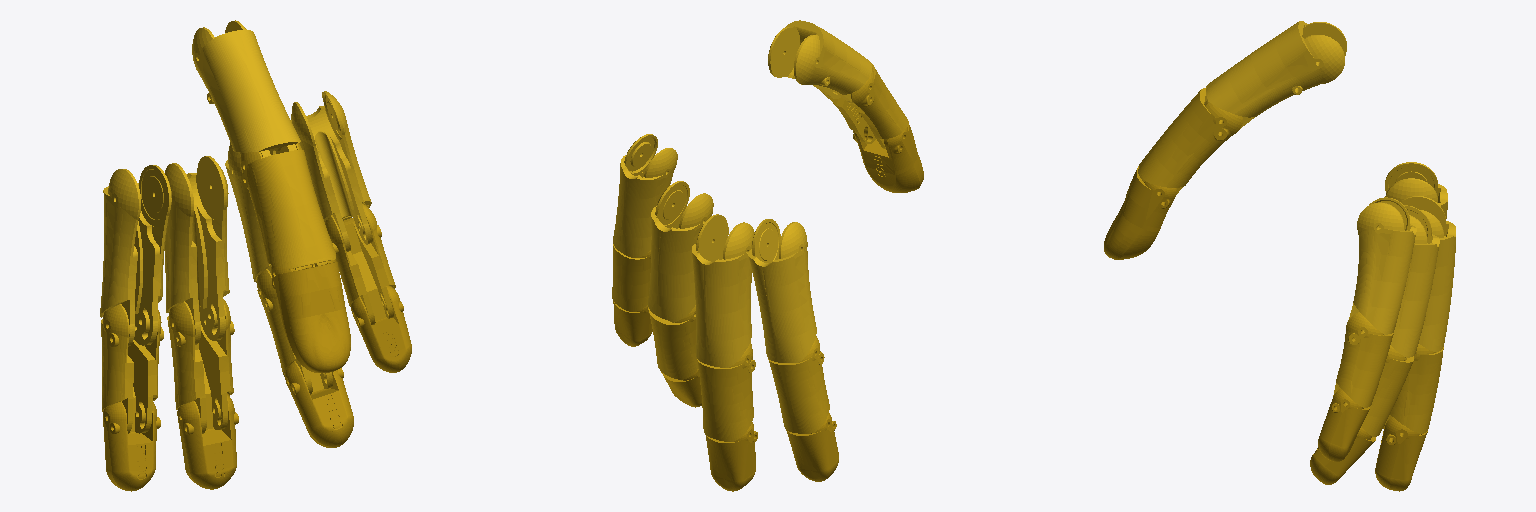
The robot description file, URDF, robot "nanohand":
<?xml version="1.0"?>
<robot name="nanohand">

  <!-- NanoHand 10-DOF URDF with Mimic Joints -->
  <!-- 3 curl joints per finger: MCP (controlled) + PIP (mimic) + DIP (mimic) -->
  <!-- UPDATE mimic multipliers after physical measurement with protractor! -->

  <!-- ===== PALM ===== -->
  <link name="palm">
    <visual>
      <origin xyz="0 0 0" rpy="0 0 0"/>
      <geometry><mesh filename="package://hands/urdf/nano/meshes/palm.stl"/></geometry>
      <material name="palm_mat"><color rgba="0.9 0.75 0.2 1.0"/></material>
    </visual>
    <collision>
      <origin xyz="0 0 0" rpy="0 0 0"/>
      <geometry><mesh filename="package://hands/urdf/nano/meshes/palm.stl"/></geometry>
    </collision>
    <inertial>
      <mass value="0.15"/>
      <origin xyz="0 0 0"/>
      <inertia ixx="0.0001" iyy="0.0001" izz="0.0001" ixy="0" ixz="0" iyz="0"/>
    </inertial>
  </link>

  <!-- Visualization / RViz convenience frame.
       Keep palm as the kinematic root so existing PyBullet joint indices do not change.
       RViz can use `base` as the fixed frame; the 180° X rotation flips the hand upright
       relative to the imported CAD mesh orientation. -->
  <link name="base"/>
  <joint name="palm_to_base" type="fixed">
    <parent link="palm"/>
    <child link="base"/>
    <origin xyz="0 0 0" rpy="3.141592653589793 0 0"/>
  </joint>


  <!-- ===== PINKY (wiggle + 3 curl joints) ===== -->
  <!-- Wiggle joint at MCP -->
  <joint name="pinky_wiggle" type="revolute">
    <parent link="palm"/>
    <child link="pinky_base"/>
    <origin xyz="0.057168 -0.015536 0.018012" rpy="0 0 0"/>
    <axis xyz="0.0000 1.0000 0.0000"/>
    <limit lower="-0.256" upper="0.256" effort="1.0" velocity="3.0"/>
  </joint>

  <link name="pinky_base">
    <inertial>
      <mass value="0.001"/>
      <origin xyz="0 0 0"/>
      <inertia ixx="1e-8" iyy="1e-8" izz="1e-8" ixy="0" ixz="0" iyz="0"/>
    </inertial>
  </link>

  <!-- MCP curl joint (CONTROLLED by servo) -->
  <joint name="pinky_curl" type="revolute">
    <parent link="pinky_base"/>
    <child link="pinky_knuckle"/>
    <origin xyz="0 0 0" rpy="0 0 0"/>
    <axis xyz="-0.9606 0.0000 -0.2778"/>
    <limit lower="0.0" upper="1.57" effort="1.0" velocity="3.0"/>
  </joint>

  <link name="pinky_knuckle">
    <visual>
      <origin xyz="-0.057168 0.015536 -0.018012" rpy="0 0 0"/>
      <geometry><mesh filename="package://hands/urdf/nano/meshes/Pinky_knuckle_section.stl"/></geometry>
      <material name="pinky_knuckle_mat"><color rgba="0.85 0.7 0.15 1.0"/></material>
    </visual>
    <collision>
      <origin xyz="-0.057168 0.015536 -0.018012" rpy="0 0 0"/>
      <geometry><mesh filename="package://hands/urdf/nano/meshes/Pinky_knuckle_section.stl"/></geometry>
    </collision>
    <inertial>
      <mass value="0.005"/>
      <origin xyz="0 0 0"/>
      <inertia ixx="1e-6" iyy="1e-6" izz="1e-6" ixy="0" ixz="0" iyz="0"/>
    </inertial>
  </link>

  <!-- PIP curl joint (MIMIC - follows MCP) -->
  <!-- UPDATE multiplier=2.92 after physical measurement! -->
  <joint name="pinky_curl_pip" type="revolute">
    <parent link="pinky_knuckle"/>
    <child link="pinky_mid"/>
    <origin xyz="0.013926 -0.006788 -0.037303" rpy="0 0 0"/>
    <axis xyz="-0.9606 0.0000 -0.2778"/>
    <limit lower="0.0" upper="1.57" effort="1.0" velocity="3.0"/>
    <mimic joint="pinky_curl" multiplier="2.92" offset="0.0"/>
  </joint>

  <link name="pinky_mid">
    <visual>
      <origin xyz="-0.071094 0.022325 0.019291" rpy="0 0 0"/>
      <geometry><mesh filename="package://hands/urdf/nano/meshes/Pinky_mid_section.stl"/></geometry>
      <material name="pinky_mid_mat"><color rgba="0.8 0.65 0.12 1.0"/></material>
    </visual>
    <collision>
      <origin xyz="-0.071094 0.022325 0.019291" rpy="0 0 0"/>
      <geometry><mesh filename="package://hands/urdf/nano/meshes/Pinky_mid_section.stl"/></geometry>
    </collision>
    <inertial>
      <mass value="0.004"/>
      <origin xyz="0 0 0"/>
      <inertia ixx="1e-6" iyy="1e-6" izz="1e-6" ixy="0" ixz="0" iyz="0"/>
    </inertial>
  </link>

  <!-- DIP curl joint (MIMIC - follows MCP) -->
  <!-- UPDATE multiplier=3.94 after physical measurement! -->
  <joint name="pinky_curl_dip" type="revolute">
    <parent link="pinky_mid"/>
    <child link="pinky_tip"/>
    <origin xyz="0.006182 -0.006283 -0.028732" rpy="0 0 0"/>
    <axis xyz="-0.9606 0.0000 -0.2778"/>
    <limit lower="0.0" upper="1.57" effort="1.0" velocity="3.0"/>
    <mimic joint="pinky_curl" multiplier="3.94" offset="0.0"/>
  </joint>

  <link name="pinky_tip">
    <visual>
      <origin xyz="-0.077276 0.028608 0.048023" rpy="0 0 0"/>
      <geometry><mesh filename="package://hands/urdf/nano/meshes/Pinky_tip_section.stl"/></geometry>
      <material name="pinky_tip_mat"><color rgba="0.75 0.6 0.1 1.0"/></material>
    </visual>
    <collision>
      <origin xyz="-0.077276 0.028608 0.048023" rpy="0 0 0"/>
      <geometry><mesh filename="package://hands/urdf/nano/meshes/Pinky_tip_section.stl"/></geometry>
    </collision>
    <inertial>
      <mass value="0.003"/>
      <origin xyz="0 0 0"/>
      <inertia ixx="1e-6" iyy="1e-6" izz="1e-6" ixy="0" ixz="0" iyz="0"/>
    </inertial>
  </link>

  <!-- ===== RING (wiggle + 3 curl joints) ===== -->
  <!-- Wiggle joint at MCP -->
  <joint name="ring_wiggle" type="revolute">
    <parent link="palm"/>
    <child link="ring_base"/>
    <origin xyz="0.041630 -0.009469 0.007289" rpy="0 0 0"/>
    <axis xyz="0.0000 1.0000 0.0000"/>
    <limit lower="-0.256" upper="0.256" effort="1.0" velocity="3.0"/>
  </joint>

  <link name="ring_base">
    <inertial>
      <mass value="0.001"/>
      <origin xyz="0 0 0"/>
      <inertia ixx="1e-8" iyy="1e-8" izz="1e-8" ixy="0" ixz="0" iyz="0"/>
    </inertial>
  </link>

  <!-- MCP curl joint (CONTROLLED by servo) -->
  <joint name="ring_curl" type="revolute">
    <parent link="ring_base"/>
    <child link="ring_knuckle"/>
    <origin xyz="0 0 0" rpy="0 0 0"/>
    <axis xyz="-0.9874 0.0000 -0.1582"/>
    <limit lower="0.0" upper="1.57" effort="1.0" velocity="3.0"/>
  </joint>

  <link name="ring_knuckle">
    <visual>
      <origin xyz="-0.041630 0.009469 -0.007289" rpy="0 0 0"/>
      <geometry><mesh filename="package://hands/urdf/nano/meshes/Ring_knuckle_section.stl"/></geometry>
      <material name="ring_knuckle_mat"><color rgba="0.85 0.7 0.15 1.0"/></material>
    </visual>
    <collision>
      <origin xyz="-0.041630 0.009469 -0.007289" rpy="0 0 0"/>
      <geometry><mesh filename="package://hands/urdf/nano/meshes/Ring_knuckle_section.stl"/></geometry>
    </collision>
    <inertial>
      <mass value="0.005"/>
      <origin xyz="0 0 0"/>
      <inertia ixx="1e-6" iyy="1e-6" izz="1e-6" ixy="0" ixz="0" iyz="0"/>
    </inertial>
  </link>

  <!-- PIP curl joint (MIMIC - follows MCP) -->
  <!-- UPDATE multiplier=2.31 after physical measurement! -->
  <joint name="ring_curl_pip" type="revolute">
    <parent link="ring_knuckle"/>
    <child link="ring_mid"/>
    <origin xyz="0.008798 -0.005417 -0.045473" rpy="0 0 0"/>
    <axis xyz="-0.9874 0.0000 -0.1582"/>
    <limit lower="0.0" upper="1.57" effort="1.0" velocity="3.0"/>
    <mimic joint="ring_curl" multiplier="2.31" offset="0.0"/>
  </joint>

  <link name="ring_mid">
    <visual>
      <origin xyz="-0.050428 0.014886 0.038184" rpy="0 0 0"/>
      <geometry><mesh filename="package://hands/urdf/nano/meshes/Ring_mid_section.stl"/></geometry>
      <material name="ring_mid_mat"><color rgba="0.8 0.65 0.12 1.0"/></material>
    </visual>
    <collision>
      <origin xyz="-0.050428 0.014886 0.038184" rpy="0 0 0"/>
      <geometry><mesh filename="package://hands/urdf/nano/meshes/Ring_mid_section.stl"/></geometry>
    </collision>
    <inertial>
      <mass value="0.004"/>
      <origin xyz="0 0 0"/>
      <inertia ixx="1e-6" iyy="1e-6" izz="1e-6" ixy="0" ixz="0" iyz="0"/>
    </inertial>
  </link>

  <!-- DIP curl joint (MIMIC - follows MCP) -->
  <!-- UPDATE multiplier=2.85 after physical measurement! -->
  <joint name="ring_curl_dip" type="revolute">
    <parent link="ring_mid"/>
    <child link="ring_tip"/>
    <origin xyz="0.004166 -0.010332 -0.030832" rpy="0 0 0"/>
    <axis xyz="-0.9874 0.0000 -0.1582"/>
    <limit lower="0.0" upper="1.57" effort="1.0" velocity="3.0"/>
    <mimic joint="ring_curl" multiplier="2.85" offset="0.0"/>
  </joint>

  <link name="ring_tip">
    <visual>
      <origin xyz="-0.054594 0.025218 0.069016" rpy="0 0 0"/>
      <geometry><mesh filename="package://hands/urdf/nano/meshes/Ring_tip_section.stl"/></geometry>
      <material name="ring_tip_mat"><color rgba="0.75 0.6 0.1 1.0"/></material>
    </visual>
    <collision>
      <origin xyz="-0.054594 0.025218 0.069016" rpy="0 0 0"/>
      <geometry><mesh filename="package://hands/urdf/nano/meshes/Ring_tip_section.stl"/></geometry>
    </collision>
    <inertial>
      <mass value="0.003"/>
      <origin xyz="0 0 0"/>
      <inertia ixx="1e-6" iyy="1e-6" izz="1e-6" ixy="0" ixz="0" iyz="0"/>
    </inertial>
  </link>

  <!-- ===== MIDDLE (wiggle + 3 curl joints) ===== -->
  <!-- Wiggle joint at MCP -->
  <joint name="middle_wiggle" type="revolute">
    <parent link="palm"/>
    <child link="middle_base"/>
    <origin xyz="0.023834 -0.004604 -0.000670" rpy="0 0 0"/>
    <axis xyz="0.0000 1.0000 0.0000"/>
    <limit lower="-0.256" upper="0.256" effort="1.0" velocity="3.0"/>
  </joint>

  <link name="middle_base">
    <inertial>
      <mass value="0.001"/>
      <origin xyz="0 0 0"/>
      <inertia ixx="1e-8" iyy="1e-8" izz="1e-8" ixy="0" ixz="0" iyz="0"/>
    </inertial>
  </link>

  <!-- MCP curl joint (CONTROLLED by servo) -->
  <joint name="middle_curl" type="revolute">
    <parent link="middle_base"/>
    <child link="middle_knuckle"/>
    <origin xyz="0 0 0" rpy="0 0 0"/>
    <axis xyz="-1.0000 -0.0000 0.0008"/>
    <limit lower="0.0" upper="1.57" effort="1.0" velocity="3.0"/>
  </joint>

  <link name="middle_knuckle">
    <visual>
      <origin xyz="-0.023834 0.004604 0.000670" rpy="0 0 0"/>
      <geometry><mesh filename="package://hands/urdf/nano/meshes/Middle_knuckle_section.stl"/></geometry>
      <material name="middle_knuckle_mat"><color rgba="0.85 0.7 0.15 1.0"/></material>
    </visual>
    <collision>
      <origin xyz="-0.023834 0.004604 0.000670" rpy="0 0 0"/>
      <geometry><mesh filename="package://hands/urdf/nano/meshes/Middle_knuckle_section.stl"/></geometry>
    </collision>
    <inertial>
      <mass value="0.005"/>
      <origin xyz="0 0 0"/>
      <inertia ixx="1e-6" iyy="1e-6" izz="1e-6" ixy="0" ixz="0" iyz="0"/>
    </inertial>
  </link>

  <!-- PIP curl joint (MIMIC - follows MCP) -->
  <!-- UPDATE multiplier=2.2 after physical measurement! -->
  <joint name="middle_curl_pip" type="revolute">
    <parent link="middle_knuckle"/>
    <child link="middle_mid"/>
    <origin xyz="-0.000673 -0.000639 -0.047688" rpy="0 0 0"/>
    <axis xyz="-1.0000 -0.0000 0.0008"/>
    <limit lower="0.0" upper="1.57" effort="1.0" velocity="3.0"/>
    <mimic joint="middle_curl" multiplier="2.2" offset="0.0"/>
  </joint>

  <link name="middle_mid">
    <visual>
      <origin xyz="-0.023161 0.005243 0.048359" rpy="0 0 0"/>
      <geometry><mesh filename="package://hands/urdf/nano/meshes/Middle_mid_section.stl"/></geometry>
      <material name="middle_mid_mat"><color rgba="0.8 0.65 0.12 1.0"/></material>
    </visual>
    <collision>
      <origin xyz="-0.023161 0.005243 0.048359" rpy="0 0 0"/>
      <geometry><mesh filename="package://hands/urdf/nano/meshes/Middle_mid_section.stl"/></geometry>
    </collision>
    <inertial>
      <mass value="0.004"/>
      <origin xyz="0 0 0"/>
      <inertia ixx="1e-6" iyy="1e-6" izz="1e-6" ixy="0" ixz="0" iyz="0"/>
    </inertial>
  </link>

  <!-- DIP curl joint (MIMIC - follows MCP) -->
  <!-- UPDATE multiplier=2.85 after physical measurement! -->
  <joint name="middle_curl_dip" type="revolute">
    <parent link="middle_mid"/>
    <child link="middle_tip"/>
    <origin xyz="0.000477 -0.003454 -0.034368" rpy="0 0 0"/>
    <axis xyz="-1.0000 -0.0000 0.0008"/>
    <limit lower="0.0" upper="1.57" effort="1.0" velocity="3.0"/>
    <mimic joint="middle_curl" multiplier="2.85" offset="0.0"/>
  </joint>

  <link name="middle_tip">
    <visual>
      <origin xyz="-0.023638 0.008697 0.082727" rpy="0 0 0"/>
      <geometry><mesh filename="package://hands/urdf/nano/meshes/Middle_tip_section.stl"/></geometry>
      <material name="middle_tip_mat"><color rgba="0.75 0.6 0.1 1.0"/></material>
    </visual>
    <collision>
      <origin xyz="-0.023638 0.008697 0.082727" rpy="0 0 0"/>
      <geometry><mesh filename="package://hands/urdf/nano/meshes/Middle_tip_section.stl"/></geometry>
    </collision>
    <inertial>
      <mass value="0.003"/>
      <origin xyz="0 0 0"/>
      <inertia ixx="1e-6" iyy="1e-6" izz="1e-6" ixy="0" ixz="0" iyz="0"/>
    </inertial>
  </link>

  <!-- ===== INDEX (wiggle + 3 curl joints) ===== -->
  <!-- Wiggle joint at MCP -->
  <joint name="index_wiggle" type="revolute">
    <parent link="palm"/>
    <child link="index_base"/>
    <origin xyz="0.003266 -0.006620 0.003480" rpy="0 0 0"/>
    <axis xyz="0.0000 1.0000 0.0000"/>
    <limit lower="-0.256" upper="0.256" effort="1.0" velocity="3.0"/>
  </joint>

  <link name="index_base">
    <inertial>
      <mass value="0.001"/>
      <origin xyz="0 0 0"/>
      <inertia ixx="1e-8" iyy="1e-8" izz="1e-8" ixy="0" ixz="0" iyz="0"/>
    </inertial>
  </link>

  <!-- MCP curl joint (CONTROLLED by servo) -->
  <joint name="index_curl" type="revolute">
    <parent link="index_base"/>
    <child link="index_knuckle"/>
    <origin xyz="0 0 0" rpy="0 0 0"/>
    <axis xyz="-0.9900 -0.0000 0.1413"/>
    <limit lower="0.0" upper="1.57" effort="1.0" velocity="3.0"/>
  </joint>

  <link name="index_knuckle">
    <visual>
      <origin xyz="-0.003266 0.006620 -0.003480" rpy="0 0 0"/>
      <geometry><mesh filename="package://hands/urdf/nano/meshes/Index_knuckle_section.stl"/></geometry>
      <material name="index_knuckle_mat"><color rgba="0.85 0.7 0.15 1.0"/></material>
    </visual>
    <collision>
      <origin xyz="-0.003266 0.006620 -0.003480" rpy="0 0 0"/>
      <geometry><mesh filename="package://hands/urdf/nano/meshes/Index_knuckle_section.stl"/></geometry>
    </collision>
    <inertial>
      <mass value="0.005"/>
      <origin xyz="0 0 0"/>
      <inertia ixx="1e-6" iyy="1e-6" izz="1e-6" ixy="0" ixz="0" iyz="0"/>
    </inertial>
  </link>

  <!-- PIP curl joint (MIMIC - follows MCP) -->
  <!-- UPDATE multiplier=0.7 after physical measurement! -->
  <joint name="index_curl_pip" type="revolute">
    <parent link="index_knuckle"/>
    <child link="index_mid"/>
    <origin xyz="-0.008028 -0.002346 -0.045583" rpy="0 0 0"/>
    <axis xyz="-0.9900 -0.0000 0.1413"/>
    <limit lower="0.0" upper="1.57" effort="1.0" velocity="3.0"/>
    <mimic joint="index_curl" multiplier="0.7" offset="0.0"/>
  </joint>

  <link name="index_mid">
    <visual>
      <origin xyz="0.004762 0.008966 0.042103" rpy="0 0 0"/>
      <geometry><mesh filename="package://hands/urdf/nano/meshes/Index_mid_section.stl"/></geometry>
      <material name="index_mid_mat"><color rgba="0.8 0.65 0.12 1.0"/></material>
    </visual>
    <collision>
      <origin xyz="0.004762 0.008966 0.042103" rpy="0 0 0"/>
      <geometry><mesh filename="package://hands/urdf/nano/meshes/Index_mid_section.stl"/></geometry>
    </collision>
    <inertial>
      <mass value="0.004"/>
      <origin xyz="0 0 0"/>
      <inertia ixx="1e-6" iyy="1e-6" izz="1e-6" ixy="0" ixz="0" iyz="0"/>
    </inertial>
  </link>

  <!-- DIP curl joint (MIMIC - follows MCP) -->
  <!-- UPDATE multiplier=0.5 after physical measurement! -->
  <joint name="index_curl_dip" type="revolute">
    <parent link="index_mid"/>
    <child link="index_tip"/>
    <origin xyz="-0.003517 -0.004590 -0.032261" rpy="0 0 0"/>
    <axis xyz="-0.9900 -0.0000 0.1413"/>
    <limit lower="0.0" upper="1.57" effort="1.0" velocity="3.0"/>
    <mimic joint="index_curl" multiplier="0.5" offset="0.0"/>
  </joint>

  <link name="index_tip">
    <visual>
      <origin xyz="0.008279 0.013556 0.074364" rpy="0 0 0"/>
      <geometry><mesh filename="package://hands/urdf/nano/meshes/Index_tip_section.stl"/></geometry>
      <material name="index_tip_mat"><color rgba="0.75 0.6 0.1 1.0"/></material>
    </visual>
    <collision>
      <origin xyz="0.008279 0.013556 0.074364" rpy="0 0 0"/>
      <geometry><mesh filename="package://hands/urdf/nano/meshes/Index_tip_section.stl"/></geometry>
    </collision>
    <inertial>
      <mass value="0.003"/>
      <origin xyz="0 0 0"/>
      <inertia ixx="1e-6" iyy="1e-6" izz="1e-6" ixy="0" ixz="0" iyz="0"/>
    </inertial>
  </link>

  <!-- ===== THUMB (wiggle + 3 curl joints) ===== -->
  <!-- Wiggle joint at MCP -->
  <joint name="thumb_wiggle" type="revolute">
    <parent link="palm"/>
    <child link="thumb_base"/>
    <origin xyz="0.015614 -0.037621 0.060954" rpy="0 0 0"/>
    <axis xyz="0.0000 1.0000 0.0000"/>
    <limit lower="-1.3" upper="1.3" effort="1.0" velocity="3.0"/>
  </joint>

  <link name="thumb_base">
    <inertial>
      <mass value="0.001"/>
      <origin xyz="0 0 0"/>
      <inertia ixx="1e-8" iyy="1e-8" izz="1e-8" ixy="0" ixz="0" iyz="0"/>
    </inertial>
  </link>

  <!-- MCP curl joint (CONTROLLED by servo) -->
  <joint name="thumb_curl" type="revolute">
    <parent link="thumb_base"/>
    <child link="thumb_knuckle"/>
    <origin xyz="0 0 0" rpy="0 0 0"/>
    <axis xyz="0.9943 0.0000 -0.1066"/>
    <limit lower="0.0" upper="1.57" effort="1.0" velocity="3.0"/>
  </joint>

  <link name="thumb_knuckle">
    <visual>
      <origin xyz="-0.015614 0.037621 -0.060954" rpy="0 0 0"/>
      <geometry><mesh filename="package://hands/urdf/nano/meshes/Thumb_knuckle_section.stl"/></geometry>
      <material name="thumb_knuckle_mat"><color rgba="0.85 0.7 0.15 1.0"/></material>
    </visual>
    <collision>
      <origin xyz="-0.015614 0.037621 -0.060954" rpy="0 0 0"/>
      <geometry><mesh filename="package://hands/urdf/nano/meshes/Thumb_knuckle_section.stl"/></geometry>
    </collision>
    <inertial>
      <mass value="0.005"/>
      <origin xyz="0 0 0"/>
      <inertia ixx="1e-6" iyy="1e-6" izz="1e-6" ixy="0" ixz="0" iyz="0"/>
    </inertial>
  </link>

  <!-- PIP curl joint (MIMIC - follows MCP) -->
  <!-- UPDATE multiplier=0.71 after physical measurement! -->
  <joint name="thumb_curl_pip" type="revolute">
    <parent link="thumb_knuckle"/>
    <child link="thumb_mid"/>
    <origin xyz="-0.005241 -0.037057 -0.021395" rpy="0 0 0"/>
    <axis xyz="0.9943 0.0000 -0.1066"/>
    <limit lower="0.0" upper="1.57" effort="1.0" velocity="3.0"/>
    <mimic joint="thumb_curl" multiplier="0.71" offset="0.0"/>
  </joint>

  <link name="thumb_mid">
    <visual>
      <origin xyz="-0.010374 0.074678 -0.039559" rpy="0 0 0"/>
      <geometry><mesh filename="package://hands/urdf/nano/meshes/Thumb_mid_section.stl"/></geometry>
      <material name="thumb_mid_mat"><color rgba="0.8 0.65 0.12 1.0"/></material>
    </visual>
    <collision>
      <origin xyz="-0.010374 0.074678 -0.039559" rpy="0 0 0"/>
      <geometry><mesh filename="package://hands/urdf/nano/meshes/Thumb_mid_section.stl"/></geometry>
    </collision>
    <inertial>
      <mass value="0.004"/>
      <origin xyz="0 0 0"/>
      <inertia ixx="1e-6" iyy="1e-6" izz="1e-6" ixy="0" ixz="0" iyz="0"/>
    </inertial>
  </link>

  <!-- DIP curl joint (MIMIC - follows MCP) -->
  <!-- UPDATE multiplier=0.54 after physical measurement! -->
  <joint name="thumb_curl_dip" type="revolute">
    <parent link="thumb_mid"/>
    <child link="thumb_tip"/>
    <origin xyz="-0.001268 -0.024596 -0.029024" rpy="0 0 0"/>
    <axis xyz="0.9943 0.0000 -0.1066"/>
    <limit lower="0.0" upper="1.57" effort="1.0" velocity="3.0"/>
    <mimic joint="thumb_curl" multiplier="0.54" offset="0.0"/>
  </joint>

  <link name="thumb_tip">
    <visual>
      <origin xyz="-0.009105 0.099274 -0.010535" rpy="0 0 0"/>
      <geometry><mesh filename="package://hands/urdf/nano/meshes/Thumb_tip_section.stl"/></geometry>
      <material name="thumb_tip_mat"><color rgba="0.75 0.6 0.1 1.0"/></material>
    </visual>
    <collision>
      <origin xyz="-0.009105 0.099274 -0.010535" rpy="0 0 0"/>
      <geometry><mesh filename="package://hands/urdf/nano/meshes/Thumb_tip_section.stl"/></geometry>
    </collision>
    <inertial>
      <mass value="0.003"/>
      <origin xyz="0 0 0"/>
      <inertia ixx="1e-6" iyy="1e-6" izz="1e-6" ixy="0" ixz="0" iyz="0"/>
    </inertial>
  </link>

</robot>

--- What the picture shows (computed from the rendered views, not written in the file) ---
3 views of the same robot in one strip: view 1: azimuth 30°, elevation 25°; view 2: azimuth 150°, elevation 25°; view 3: azimuth 270°, elevation 25° (orthographic).
Robot: nanohand — 22 links, 21 joints (20 revolute, 1 fixed); root link palm; default pose: every joint at zero.
Visible links, largest first — view 1: index_knuckle, middle_knuckle, thumb_knuckle, thumb_mid, thumb_tip, pinky_knuckle, middle_mid, index_mid, pinky_mid, middle_tip, index_tip, ring_tip (+3 smaller); view 2: middle_knuckle, index_knuckle, ring_knuckle, thumb_knuckle, pinky_knuckle, middle_mid, index_mid, thumb_mid, thumb_tip, ring_mid, middle_tip, index_tip (+3 smaller); view 3: thumb_knuckle, pinky_knuckle, thumb_mid, ring_knuckle, thumb_tip, pinky_mid, middle_knuckle, middle_mid, middle_tip, pinky_tip, ring_mid, index_knuckle (+1 smaller).
Link boxes in pixels (<box>): index_knuckle: <box>100,165,171,346</box>; middle_knuckle: <box>165,156,229,344</box>; thumb_knuckle: <box>192,20,300,157</box>; thumb_mid: <box>240,143,335,270</box>; thumb_tip: <box>271,259,350,372</box>; pinky_knuckle: <box>291,91,372,251</box>; middle_mid: <box>167,300,234,433</box>; index_mid: <box>101,304,163,433</box>; pinky_mid: <box>325,204,395,324</box>; middle_tip: <box>177,394,238,489</box>; index_tip: <box>103,401,160,491</box>; ring_tip: <box>285,361,353,447</box>; middle_knuckle: <box>692,214,754,367</box>; index_knuckle: <box>748,219,816,362</box>; ring_knuckle: <box>648,181,713,322</box>; thumb_knuckle: <box>768,20,871,104</box>; pinky_knuckle: <box>613,134,677,257</box>; middle_mid: <box>697,342,755,441</box>; index_mid: <box>768,336,829,433</box>; thumb_mid: <box>823,62,908,148</box>; thumb_tip: <box>853,124,923,192</box>; ring_mid: <box>649,305,697,380</box>; middle_tip: <box>705,422,757,491</box>; index_tip: <box>786,413,838,481</box>; thumb_knuckle: <box>1204,21,1346,128</box>; pinky_knuckle: <box>1349,197,1416,338</box>; thumb_mid: <box>1138,88,1242,193</box>; ring_knuckle: <box>1391,205,1439,360</box>; thumb_tip: <box>1104,166,1176,259</box>; pinky_mid: <box>1333,312,1393,408</box>; middle_knuckle: <box>1401,196,1455,352</box>; middle_mid: <box>1385,344,1443,433</box>; middle_tip: <box>1375,417,1427,491</box>; pinky_tip: <box>1318,389,1369,461</box>; ring_mid: <box>1361,345,1413,436</box>; index_knuckle: <box>1385,162,1447,218</box>.
Size in the robot's own frame: 0.1066 by 0.1326 by 0.1873 metres.
Meshes: 16 distinct files referenced, 15 mesh visuals loaded (15 binary STL); not drawn: 1 (reference not matched to a file when rendering).
